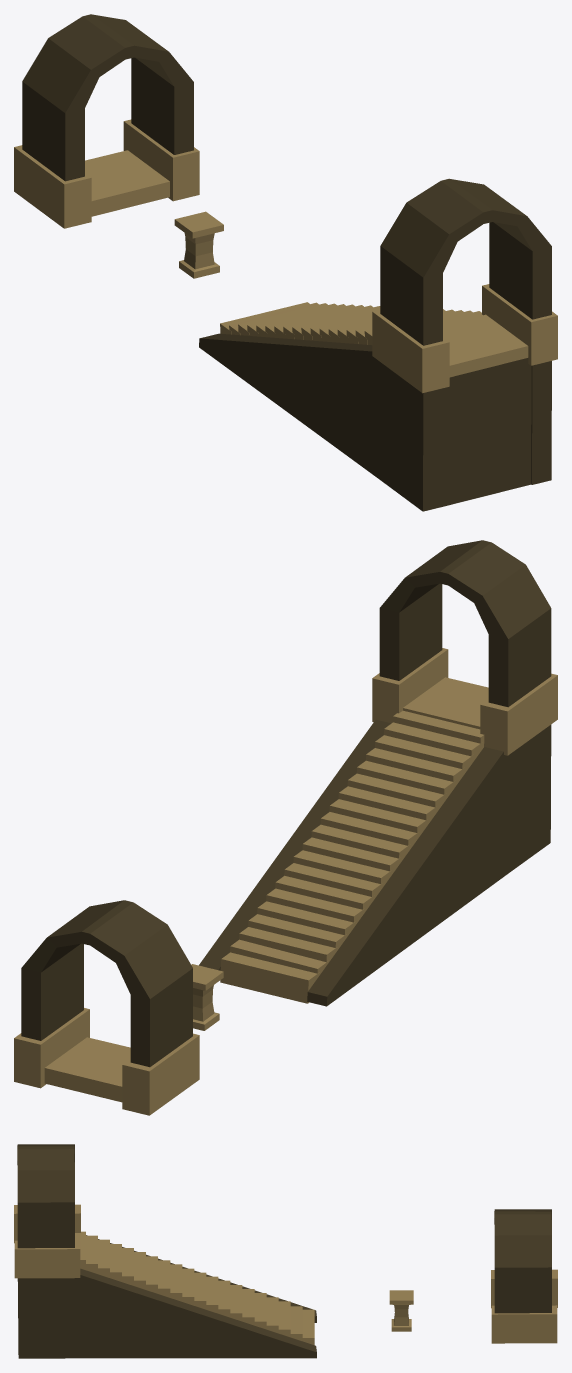
Rendered from Ladder.fbx.
3 renders of one model, top to bottom at view 1: azimuth 30°, elevation 25°; view 2: azimuth 150°, elevation 25°; view 3: azimuth 270°, elevation 25°, orthographic. The views are drawn at different scales.
Visible parts, largest first — view 1: Cube.007, Cube.009, Cube.008; view 2: Cube.007, Cube.009, Cube.008; view 3: Cube.007, Cube.009, Cube.008.
Boxes of the visible parts, box(x1,y1,x2,y2) form: Cube.007: box(199, 178, 557, 511); Cube.009: box(14, 14, 199, 228); Cube.008: box(174, 211, 223, 278); Cube.007: box(199, 540, 557, 1006); Cube.009: box(14, 900, 199, 1115); Cube.008: box(191, 964, 223, 1030); Cube.007: box(14, 1144, 316, 1358); Cube.009: box(491, 1209, 557, 1343); Cube.008: box(389, 1290, 413, 1331).
Size of the model in its own units: 1389 by 2816 by 7225.
